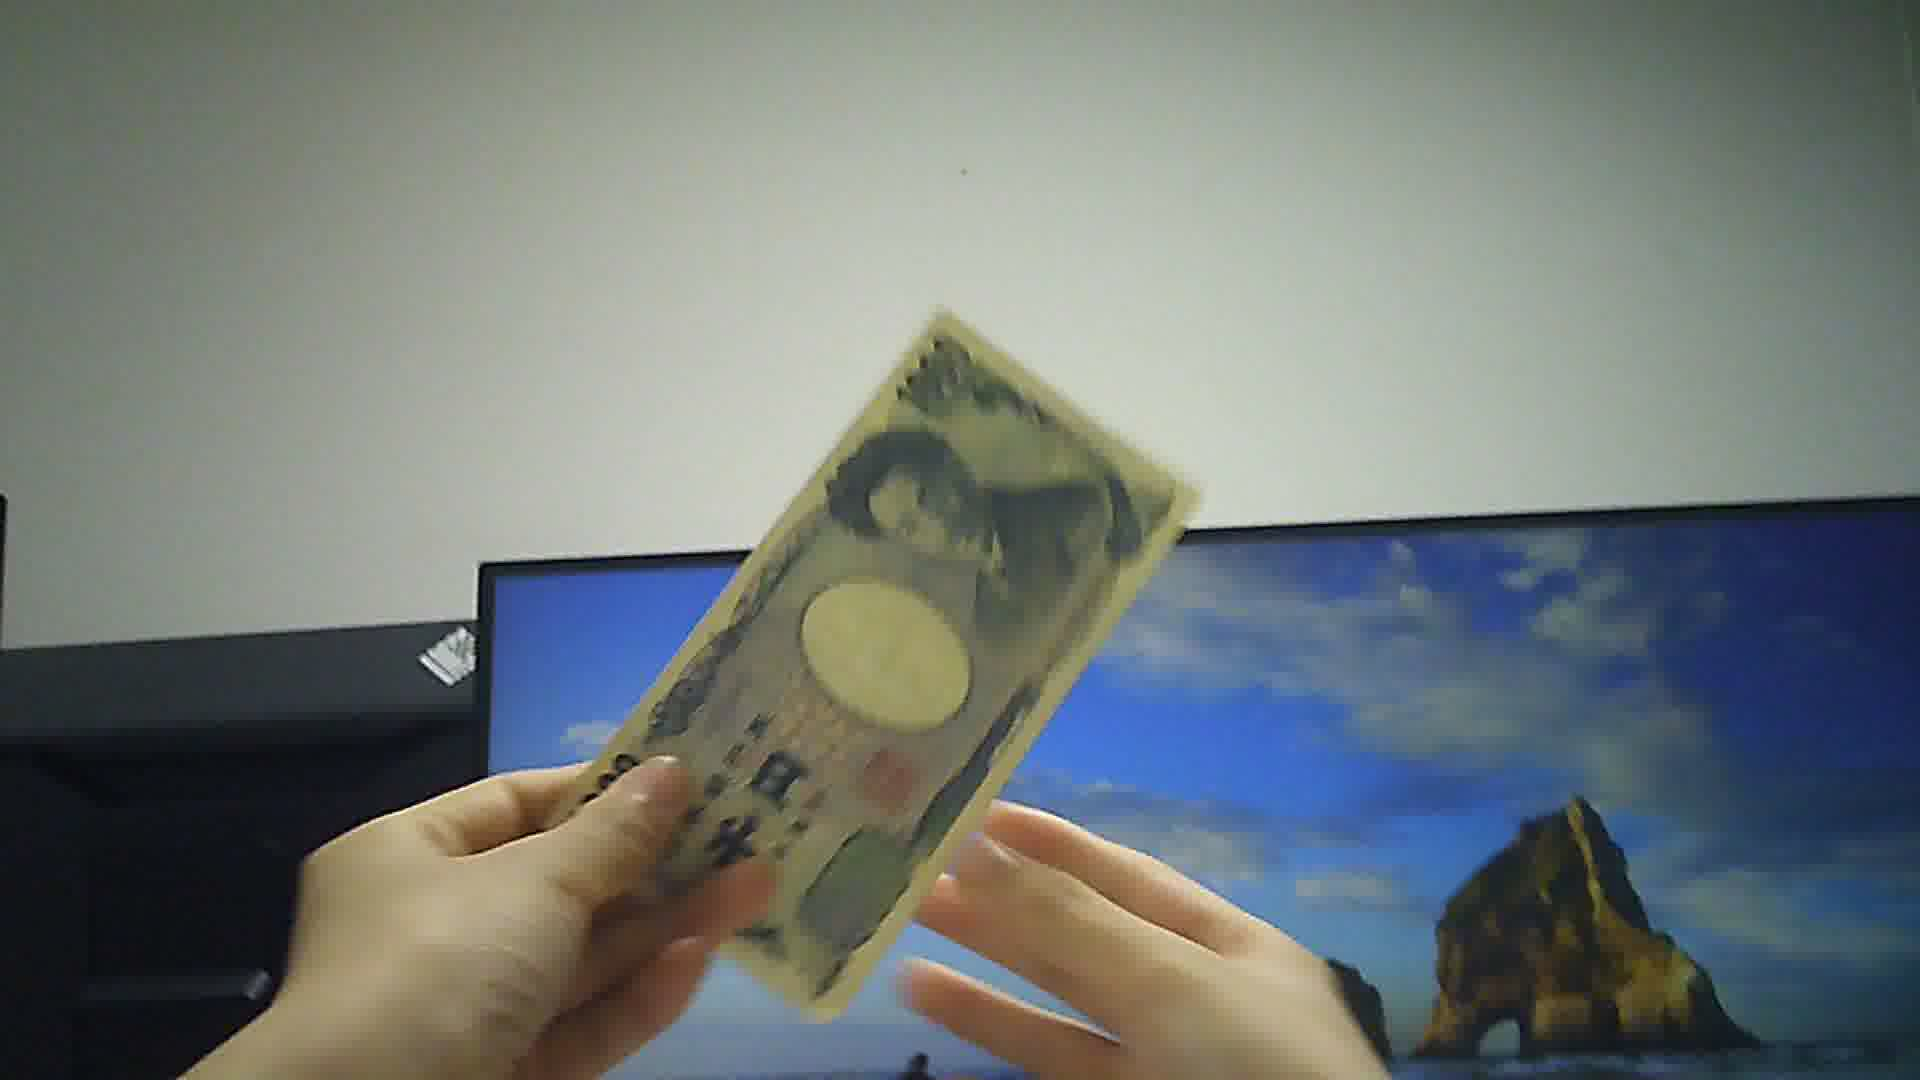1,000 Yen: (525, 280, 1233, 1031)
